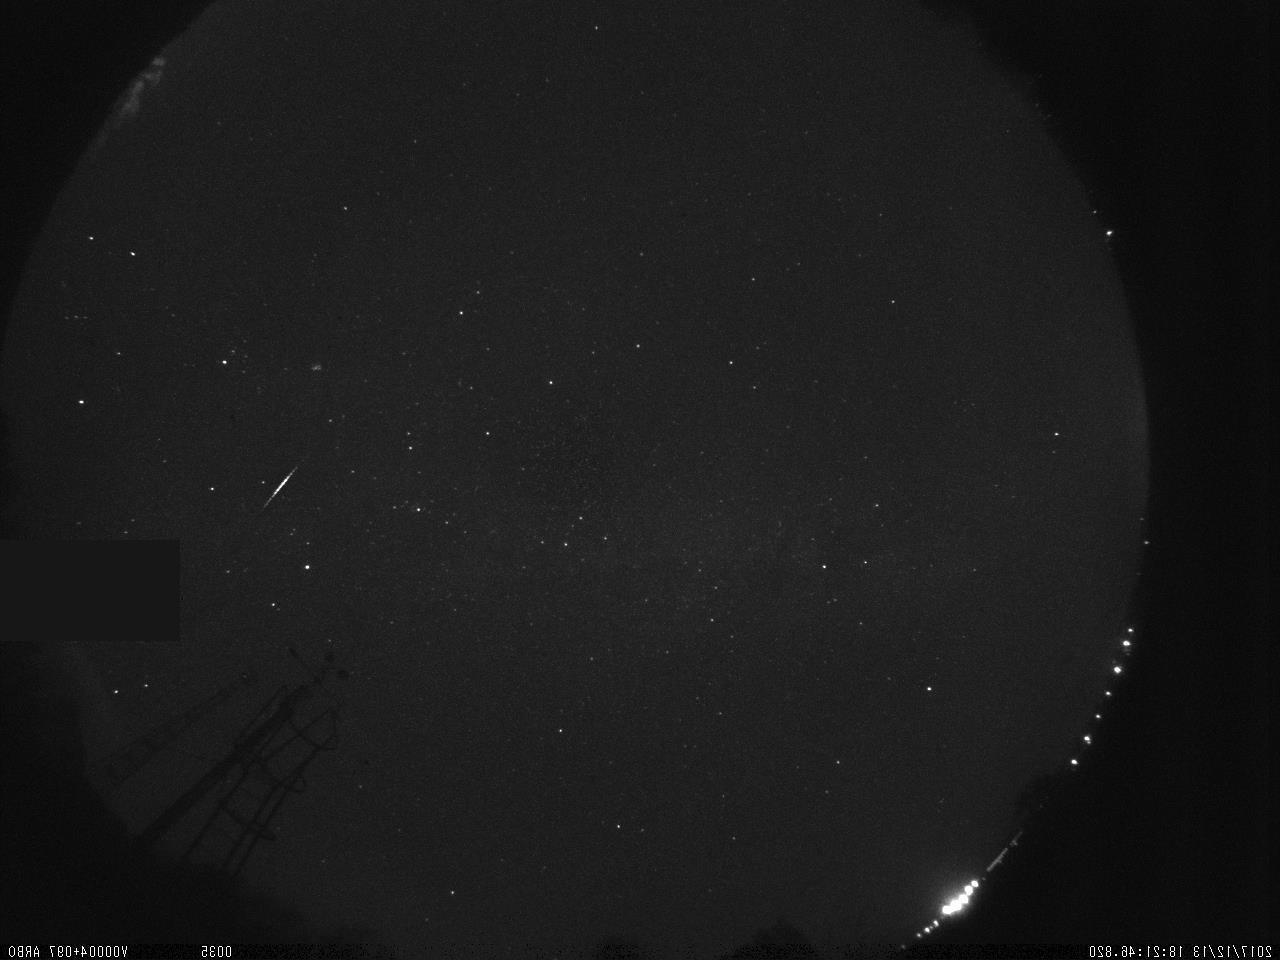meteor: (237, 446, 318, 525)
